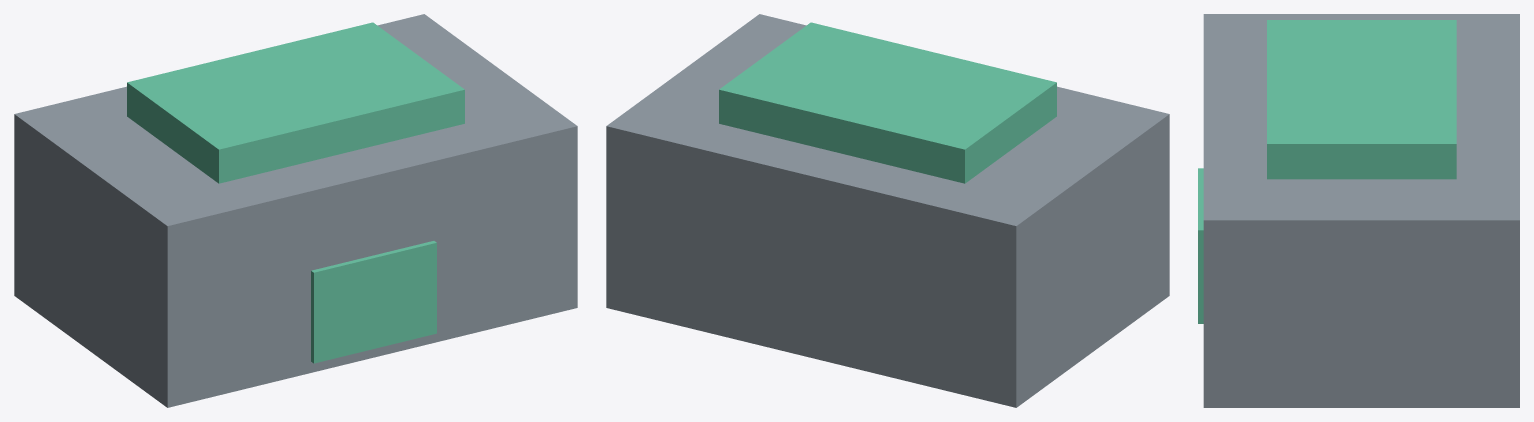
File: CO_TianmenFortress_LOD0.glb
3 renders of one model, left to right at view 1: azimuth 30°, elevation 25°; view 2: azimuth 150°, elevation 25°; view 3: azimuth 270°, elevation 25°, orthographic. The views are drawn at different scales.
Parts seen in each view (by area): view 1: EntranceGate; view 2: EntranceGate; view 3: EntranceGate.
Part boxes in pixels (<box>): EntranceGate: <box>14,14,577,407</box>; EntranceGate: <box>606,14,1169,407</box>; EntranceGate: <box>1198,14,1519,407</box>.
Size of the model in its own units: 850 by 428 by 560.
